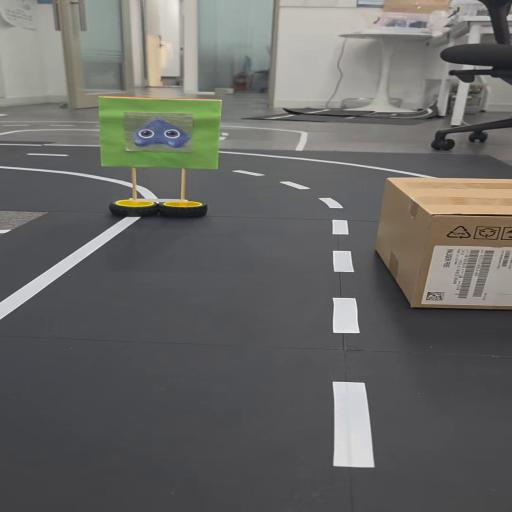Sign_B: (85, 91, 236, 220)
